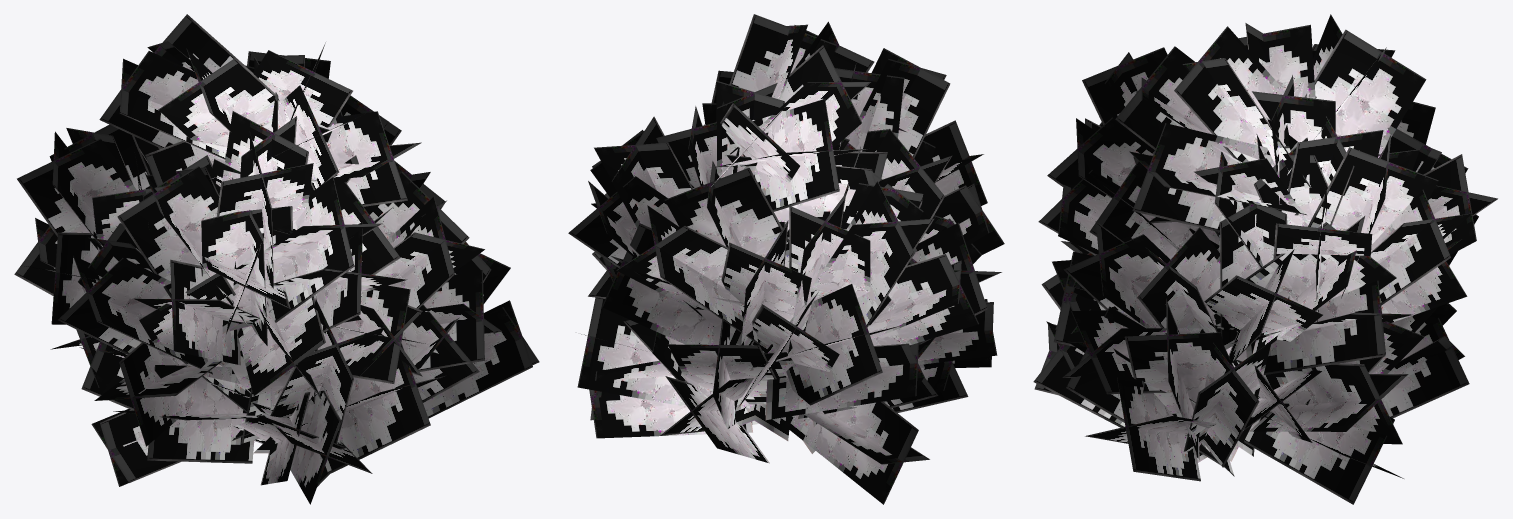
3 renders of one model, left to right at view 1: azimuth 30°, elevation 25°; view 2: azimuth 150°, elevation 25°; view 3: azimuth 270°, elevation 25°, orthographic. The views are drawn at different scales.
Parts seen in each view (by area): view 1: body0_model0_lod0_mesh0; view 2: body0_model0_lod0_mesh0; view 3: body0_model0_lod0_mesh0.
Part boxes in pixels (left/top/right/bottom): body0_model0_lod0_mesh0: left=14, top=14, right=539, bottom=504; body0_model0_lod0_mesh0: left=568, top=14, right=1004, bottom=504; body0_model0_lod0_mesh0: left=1033, top=14, right=1497, bottom=504.
Size of the model in its own units: 296 by 290 by 278.
1 material, 1 textured.
